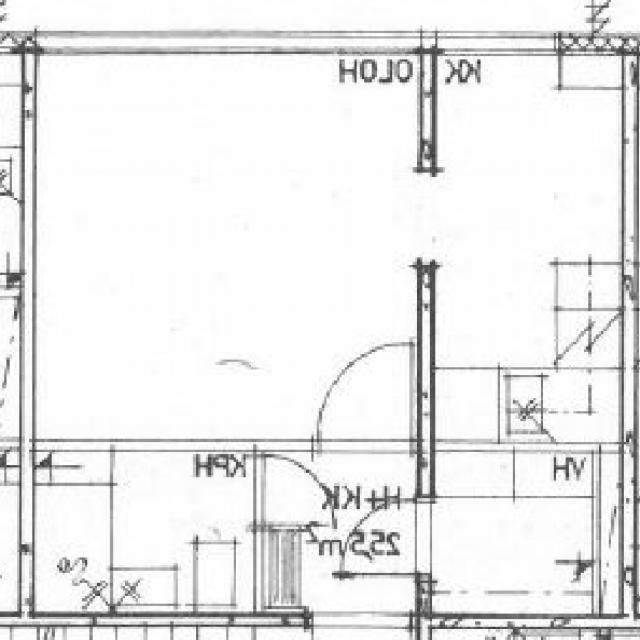door: (320, 349, 411, 452), (351, 501, 436, 573), (254, 456, 333, 524)
